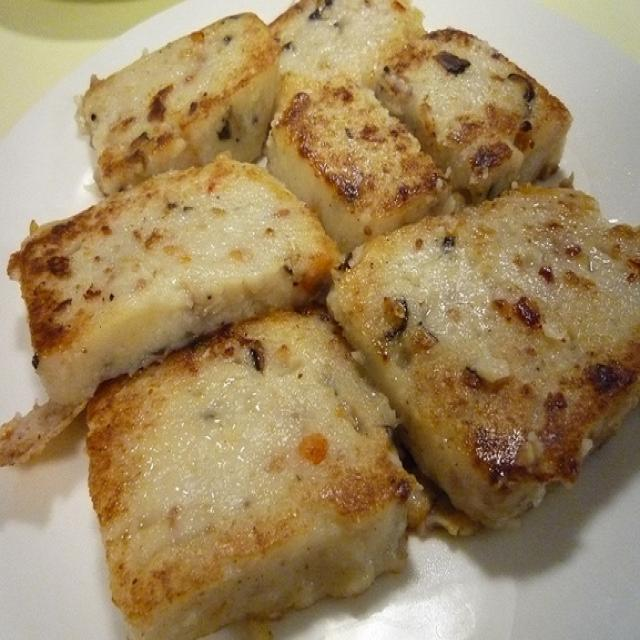蛋糕甜品: (21, 15, 606, 615)
